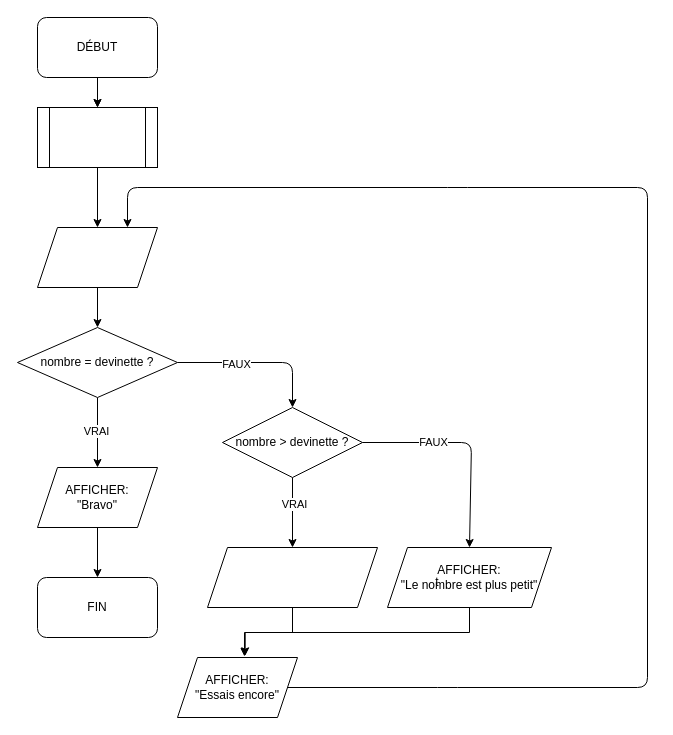
Image size: 673x735. Some labels were removed from this diagram. The shapes that lost their labels are listed below. From the top down, each one's centre as x and y in pixels, then its label:
pixel 97 137: devinette = RAND()
pixel 97 257: LIRE: nombre
pixel 292 577: AFFICHER: "Le nombre est plus grand"
